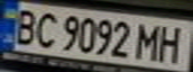0: (75, 15, 96, 55)
2: (112, 18, 136, 60)
9: (57, 11, 81, 52), (93, 16, 115, 56)
B: (6, 6, 42, 46)
C: (30, 9, 60, 48)
H: (154, 22, 190, 63)
M: (133, 20, 166, 61)
